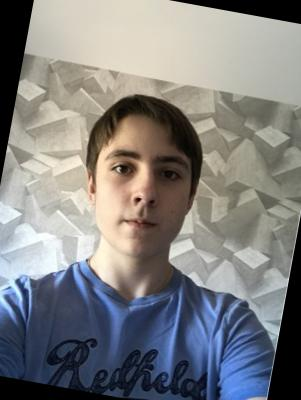without_mask: (85, 142, 200, 267)
